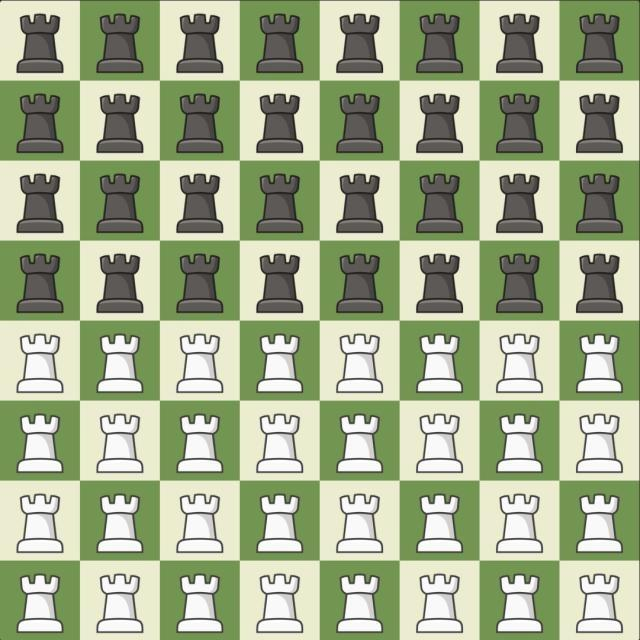black-rook: (256, 174, 303, 234), (256, 253, 303, 313), (256, 93, 303, 153), (256, 13, 303, 73), (337, 14, 384, 74)
